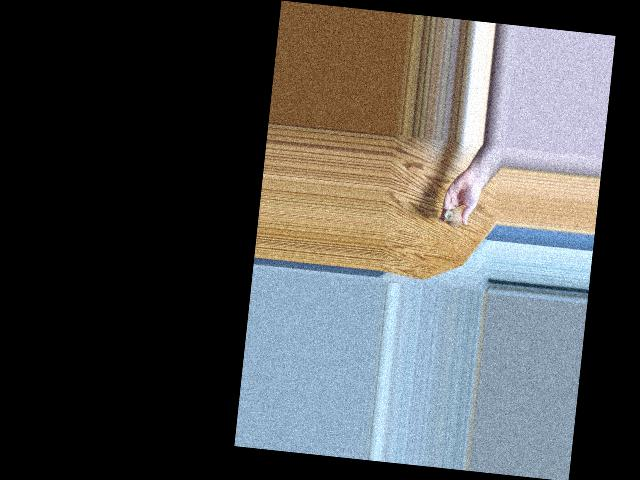sweet_potato: (444, 208, 463, 228)
